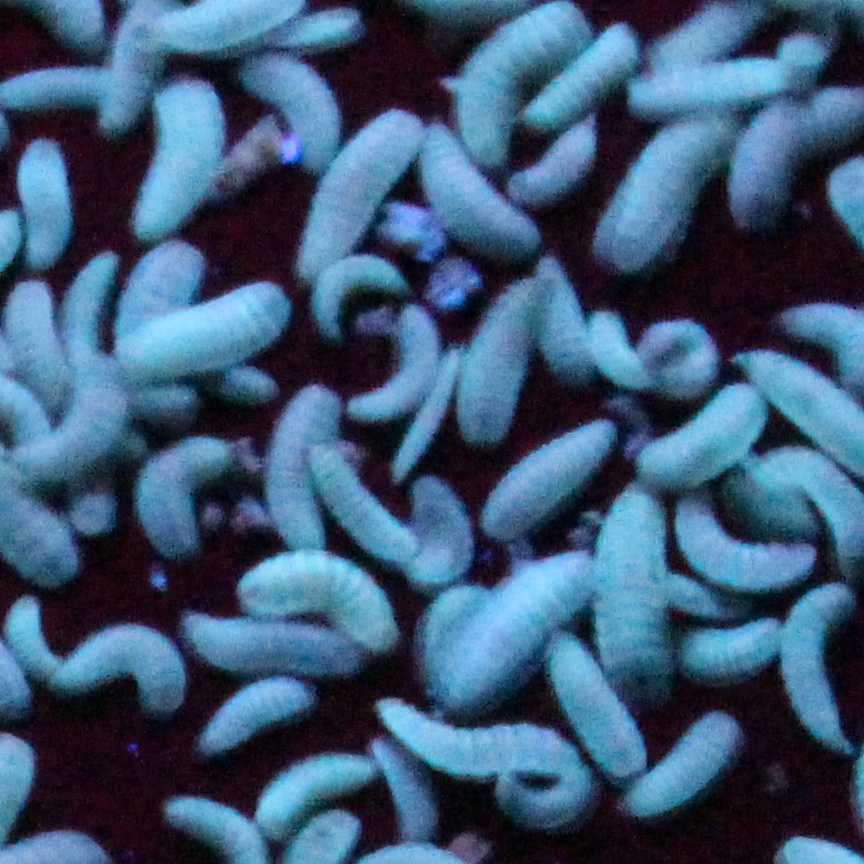larve: (441, 549, 606, 698), (588, 466, 685, 698), (299, 113, 421, 282), (601, 116, 735, 267), (715, 87, 863, 222), (134, 276, 292, 395), (232, 549, 405, 655), (414, 120, 537, 266), (537, 629, 652, 780), (370, 698, 586, 776), (112, 242, 203, 420), (483, 415, 612, 536), (457, 276, 554, 435), (134, 71, 225, 236), (12, 355, 126, 480), (303, 446, 421, 558), (623, 711, 754, 809), (643, 380, 765, 482), (134, 433, 235, 555), (241, 47, 339, 171), (783, 575, 852, 751), (675, 495, 803, 589), (181, 607, 363, 673), (266, 384, 335, 547), (515, 255, 597, 386), (59, 626, 188, 709), (346, 307, 441, 415), (525, 26, 634, 120), (392, 349, 468, 478), (390, 473, 472, 589), (623, 56, 795, 109), (50, 247, 126, 366), (310, 246, 410, 333), (261, 749, 365, 829), (203, 676, 315, 749), (626, 311, 721, 396), (5, 286, 68, 413), (668, 615, 783, 684), (3, 587, 75, 689), (577, 302, 650, 396), (368, 735, 435, 835), (512, 124, 599, 198), (499, 767, 597, 822), (28, 138, 66, 267), (274, 0, 366, 44)
